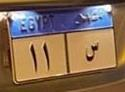1: (29, 41, 39, 75), (41, 41, 52, 71)
seen: (85, 42, 100, 63)
